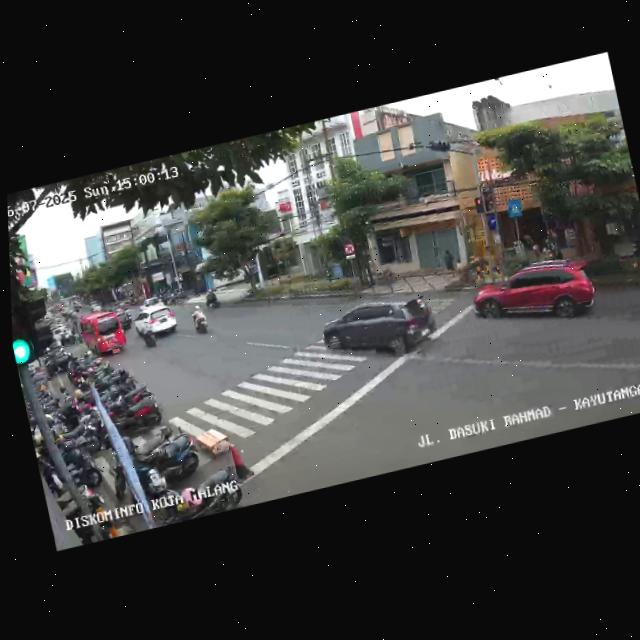car: (468, 249, 600, 341), (313, 283, 443, 375), (76, 306, 129, 362), (131, 302, 181, 345)
motorcycle: (187, 299, 213, 339), (138, 316, 159, 351), (119, 308, 134, 332)
